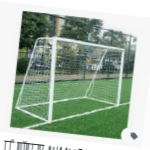goals: (16, 35, 127, 122)
